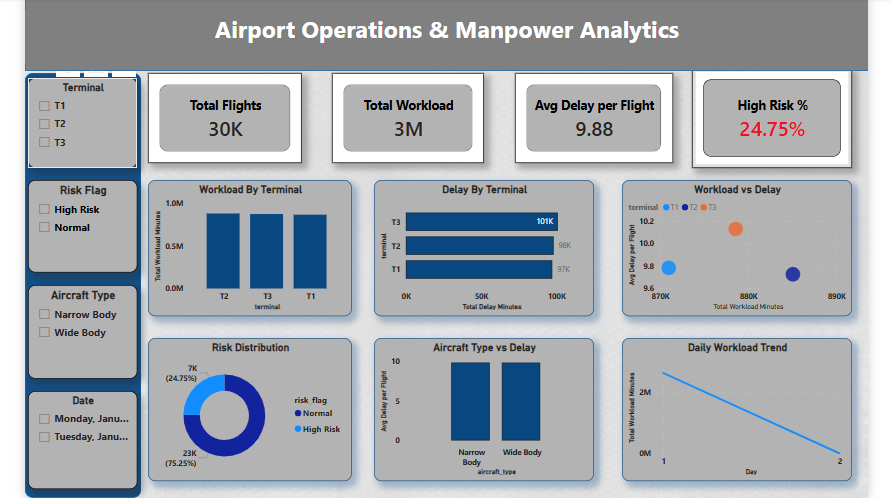

The page's visual inventory and layout, read from the dashboard file:
{"tool":"powerbi","page":{"name":"Page 1","canvas":[1350,800],"ordinal":0},"visuals":[{"type":"shape","box":[0,120.8,185.6,679.5],"z":0},{"type":"cardVisual","fields":{"Data":["airport_analysis.Total Flights"]},"box":[196.8,120,246.4,144],"z":1000},{"type":"cardVisual","fields":{"Data":["airport_analysis.Total Workload Minutes"]},"box":[491.2,120,243.2,144],"z":2000},{"type":"cardVisual","fields":{"Data":["airport_analysis.Avg Delay per Flight"]},"box":[784,120,252.8,144],"z":3000},{"type":"cardVisual","fields":{"Data":["airport_analysis.High Risk Percentage"]},"box":[1067.2,112,256,160],"z":4000},{"type":"clusteredColumnChart","title":"Workload By Terminal","fields":{"Category":["airport_analysis.terminal"],"Y":["airport_analysis.Total Workload Minutes"]},"box":[196.8,291.2,326.4,217.6],"z":5000},{"type":"clusteredBarChart","title":"Delay By Terminal","fields":{"Category":["airport_analysis.terminal"],"Y":["airport_analysis.Total Delay Minutes"]},"box":[558.4,291.2,352,217.6],"z":6000},{"type":"donutChart","title":"Risk Distribution","fields":{"Category":["airport_analysis.risk_flag"],"Y":["airport_analysis.Total Flights"]},"box":[196.8,544,326.4,228.8],"z":7000},{"type":"clusteredColumnChart","title":"Aircraft Type vs Delay","fields":{"Category":["airport_analysis.aircraft_type"],"Y":["airport_analysis.Avg Delay per Flight"]},"box":[558.4,544,352,228.8],"z":8000},{"type":"scatterChart","title":"Workload vs Delay","fields":{"X":["airport_analysis.Total Workload Minutes"],"Series":["airport_analysis.terminal"],"Y":["airport_analysis.Avg Delay per Flight"],"Size":["airport_analysis.Total Flights"]},"box":[955.2,291.2,368,217.6],"z":9000},{"type":"lineChart","title":"Daily Workload Trend","fields":{"Category":["airport_analysis.date.Variation.Date Hierarchy.Day"],"Y":["airport_analysis.Total Workload Minutes"]},"box":[955.2,544,368,228.8],"z":10000},{"type":"slicer","title":"Terminal","fields":{"Values":["airport_analysis.terminal"]},"box":[4.5,128,174.8,144.2],"z":11000},{"type":"shape","box":[0,0,1350.4,116.8],"z":12000},{"type":"textbox","box":[0,19.2,1350.4,84.8],"z":13000},{"type":"slicer","title":"Aircraft Type","fields":{"Values":["airport_analysis.aircraft_type"]},"box":[4.5,459.6,174.8,149.6],"z":14000},{"type":"slicer","title":"Risk Flag","fields":{"Values":["airport_analysis.risk_flag"]},"box":[4.5,292,174.8,147.8],"z":15000},{"type":"slicer","title":"Date","fields":{"Values":["airport_analysis.date"]},"box":[4.5,629,174.8,156.8],"z":16000}]}

Visuals, with their boxes in screenshot pixels (x1, y1, x2, y2):
shape: {"x1": 23, "y1": 77, "x2": 137, "y2": 494}
cardVisual - airport_analysis.Total Flights: {"x1": 144, "y1": 76, "x2": 295, "y2": 164}
cardVisual - airport_analysis.Total Workload Minutes: {"x1": 325, "y1": 76, "x2": 474, "y2": 164}
cardVisual - airport_analysis.Avg Delay per Flight: {"x1": 505, "y1": 76, "x2": 660, "y2": 164}
cardVisual - airport_analysis.High Risk Percentage: {"x1": 679, "y1": 71, "x2": 836, "y2": 169}
"Workload By Terminal" clusteredColumnChart: {"x1": 144, "y1": 181, "x2": 345, "y2": 315}
"Delay By Terminal" clusteredBarChart: {"x1": 366, "y1": 181, "x2": 582, "y2": 315}
"Risk Distribution" donutChart: {"x1": 144, "y1": 336, "x2": 345, "y2": 477}
"Aircraft Type vs Delay" clusteredColumnChart: {"x1": 366, "y1": 336, "x2": 582, "y2": 477}
"Workload vs Delay" scatterChart: {"x1": 610, "y1": 181, "x2": 836, "y2": 315}
"Daily Workload Trend" lineChart: {"x1": 610, "y1": 336, "x2": 836, "y2": 477}
"Terminal" slicer: {"x1": 26, "y1": 81, "x2": 133, "y2": 170}
shape: {"x1": 23, "y1": 2, "x2": 853, "y2": 74}
textbox: {"x1": 23, "y1": 14, "x2": 853, "y2": 66}
"Aircraft Type" slicer: {"x1": 26, "y1": 285, "x2": 133, "y2": 377}
"Risk Flag" slicer: {"x1": 26, "y1": 182, "x2": 133, "y2": 272}
"Date" slicer: {"x1": 26, "y1": 389, "x2": 133, "y2": 485}
